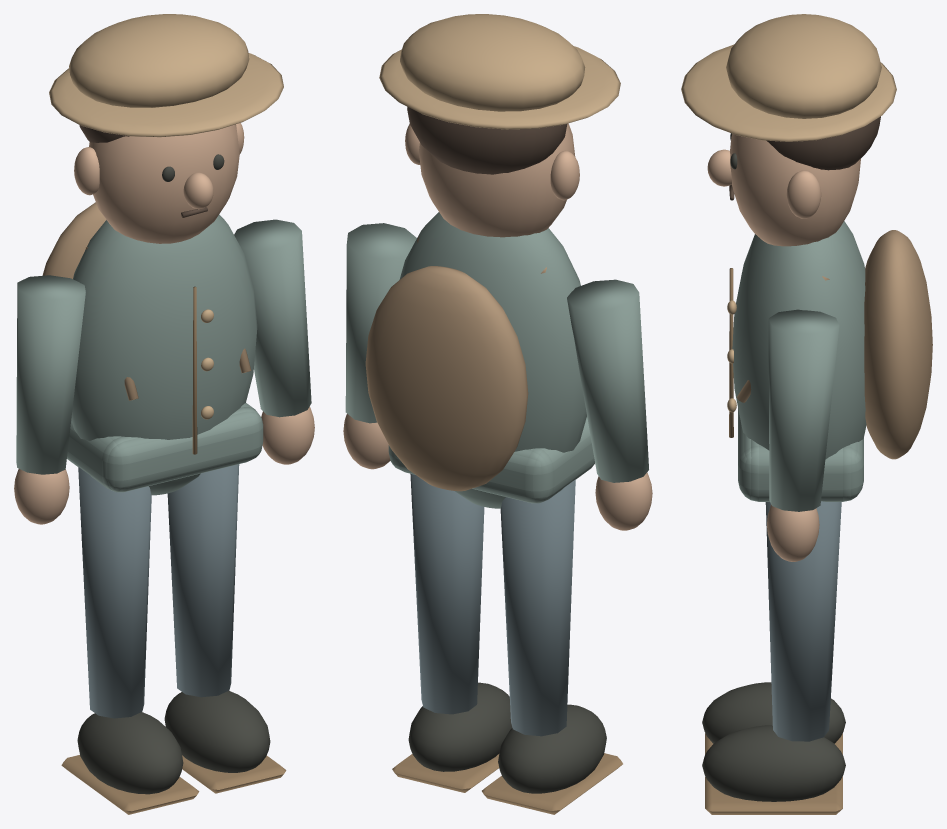
File: resident.glb
3 views of the same model, side by side, from view 1: azimuth 30°, elevation 25°; view 2: azimuth 150°, elevation 25°; view 3: azimuth 270°, elevation 25° (orthographic). The views are drawn at different scales.
Visible parts, largest first — view 1: torso, head, leg-left, leg-right, arm-left, arm-right; view 2: torso, head, leg-left, leg-right, arm-left, arm-right; view 3: torso, head, leg-right, arm-right, leg-left.
Part boxes in pixels (x1,y1,x2,y2): torso: (42, 202, 263, 495); head: (49, 14, 283, 243); leg-left: (61, 467, 199, 814); leg-right: (164, 464, 286, 793); arm-left: (14, 275, 85, 524); arm-right: (234, 219, 314, 464); torso: (365, 212, 594, 508); head: (379, 14, 620, 237); leg-left: (482, 479, 622, 814); leg-right: (392, 473, 512, 792); arm-left: (567, 279, 652, 530); arm-right: (343, 223, 416, 469); torso: (727, 221, 932, 501); head: (681, 14, 896, 246); leg-right: (702, 501, 845, 814); arm-right: (767, 309, 839, 561); leg-left: (702, 682, 845, 754).
Bounding box in the file's own units: 0.5748 × 1.37 × 0.42.
